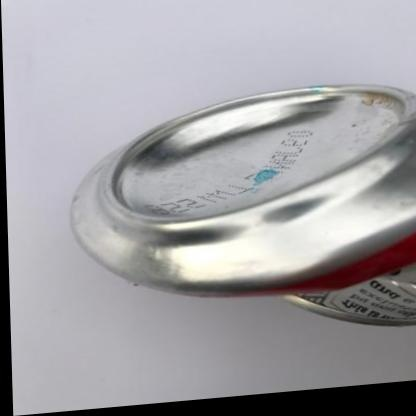trash: (72, 86, 415, 295)
